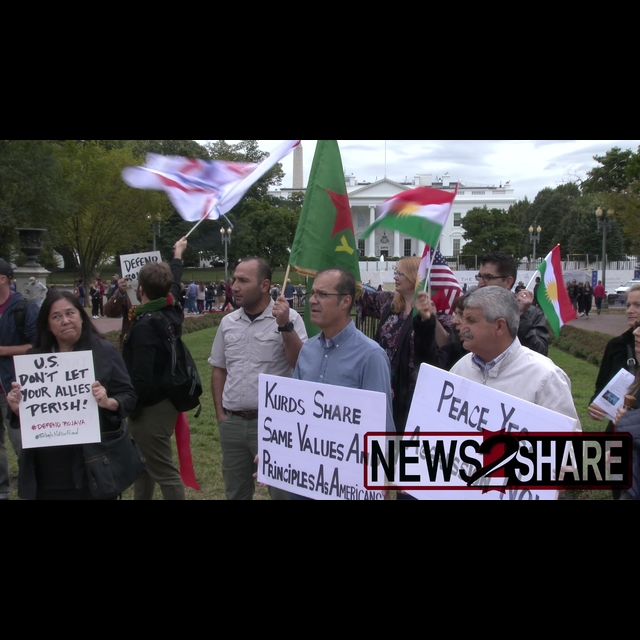IBKY: (535, 244, 577, 341)
